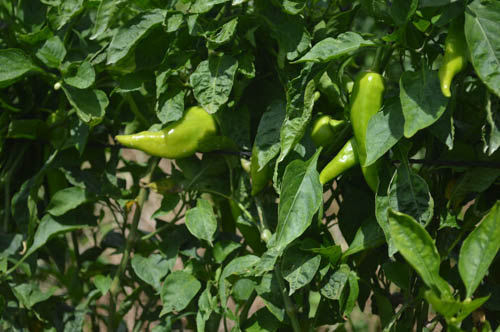ChiliPepper: (110, 113, 217, 165), (351, 73, 384, 188), (439, 24, 475, 100), (321, 141, 360, 205), (250, 143, 273, 194)
